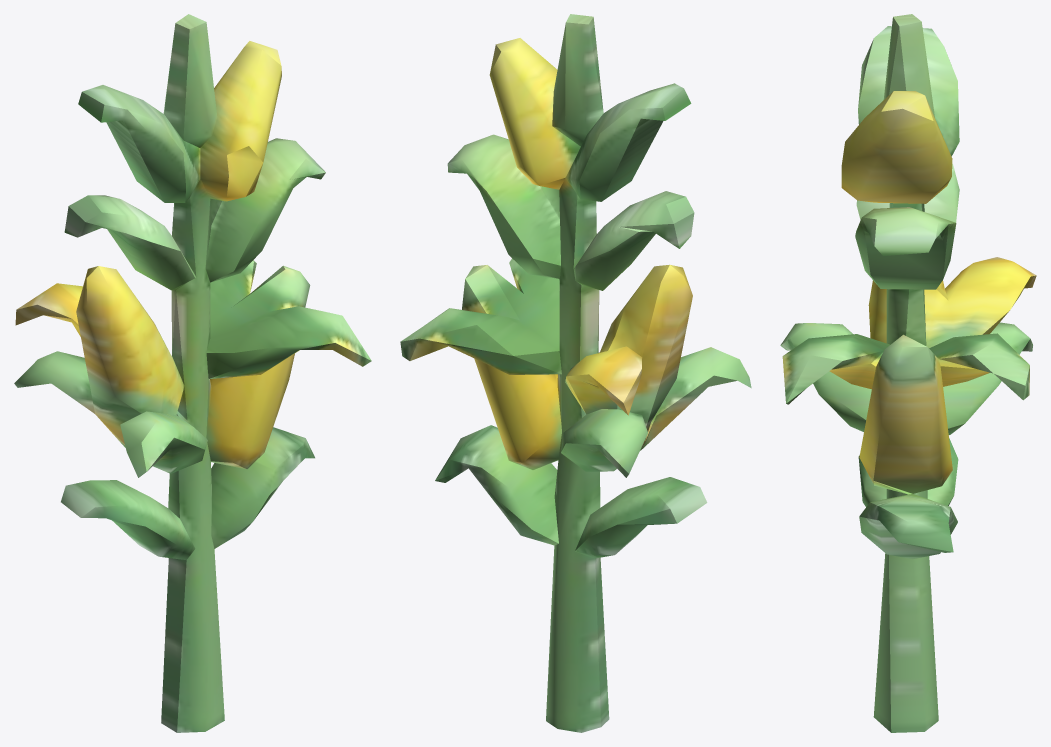
3 renders of one model, left to right at view 1: azimuth 30°, elevation 25°; view 2: azimuth 150°, elevation 25°; view 3: azimuth 270°, elevation 25°, orthographic.
Parts seen in each view (by area): view 1: corn_plant; view 2: corn_plant; view 3: corn_plant.
Boxes of the visible parts, x1=… form: corn_plant: x1=14, y1=14, x2=371, y2=732; corn_plant: x1=400, y1=14, x2=751, y2=732; corn_plant: x1=780, y1=14, x2=1036, y2=732.
Size of the model in its own units: 0.6765 by 1.89 by 0.6258.
Materials: 1 (1 with a texture image).
